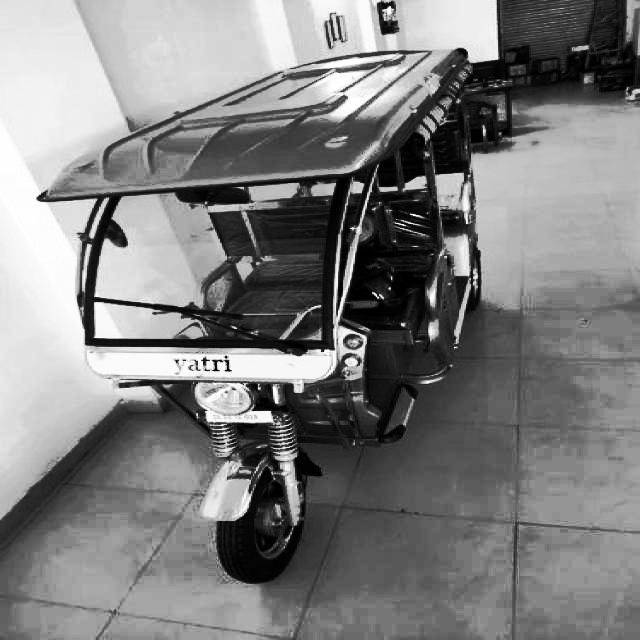Toto: (50, 50, 491, 578)
